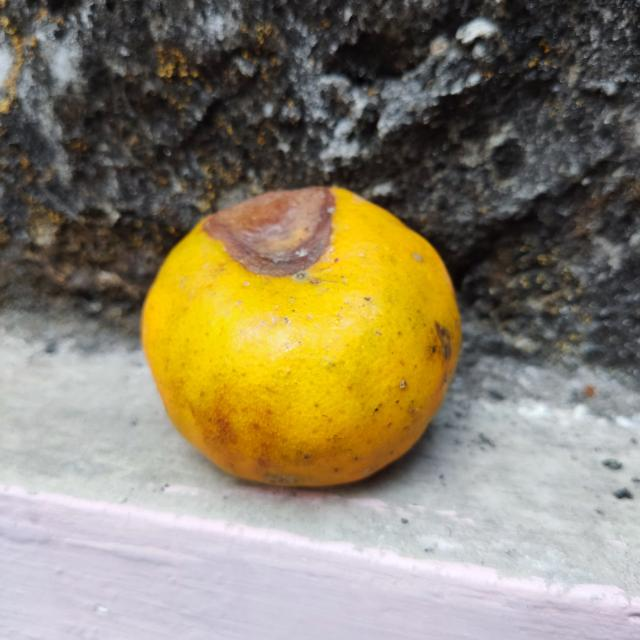orange: (138, 185, 462, 494)
